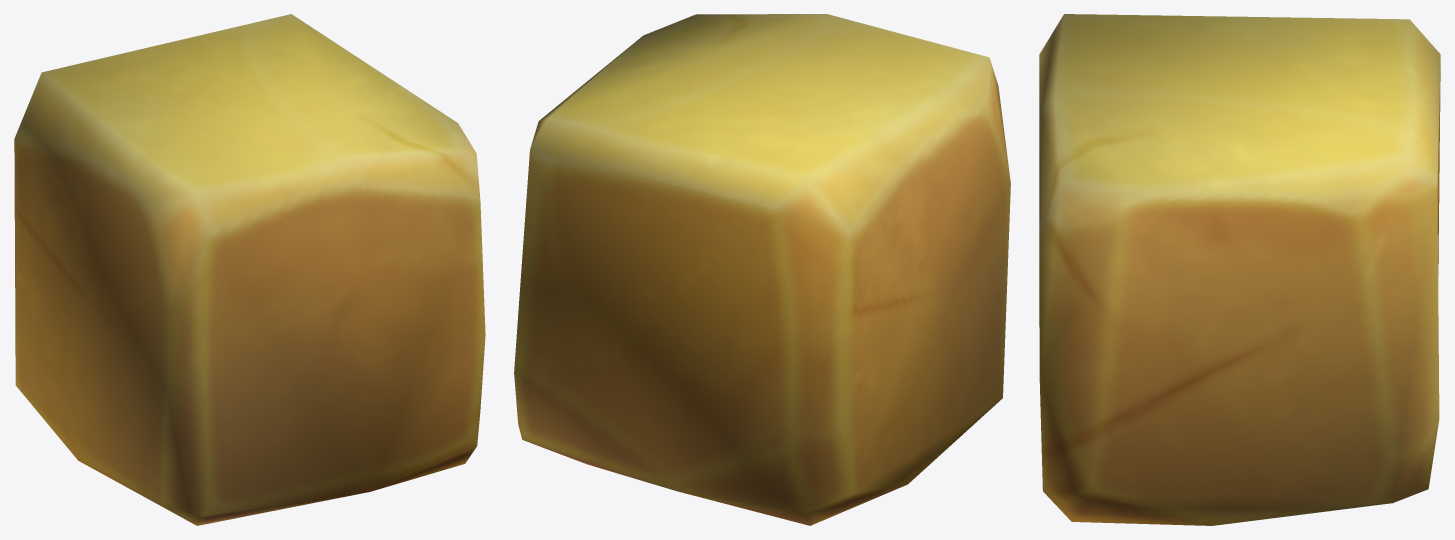
Rendered from SM_Gem_Gold_Piece_003.fbx.
3 views of the same model, side by side, from view 1: azimuth 30°, elevation 25°; view 2: azimuth 150°, elevation 25°; view 3: azimuth 270°, elevation 25° (orthographic). The views are drawn at different scales.
Visible parts, largest first — view 1: SM_Gem_Gold_Piece_003; view 2: SM_Gem_Gold_Piece_003; view 3: SM_Gem_Gold_Piece_003.
Part boxes in pixels (x1=…): SM_Gem_Gold_Piece_003: x1=14, y1=14, x2=485, y2=525; SM_Gem_Gold_Piece_003: x1=514, y1=14, x2=1010, y2=525; SM_Gem_Gold_Piece_003: x1=1039, y1=14, x2=1440, y2=525.
Bounding box in the file's own units: 14.3 × 14.44 × 14.41.
